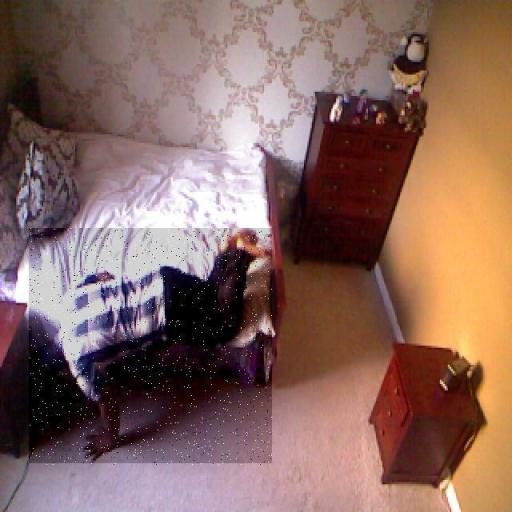Fall: (29, 229, 272, 466)
